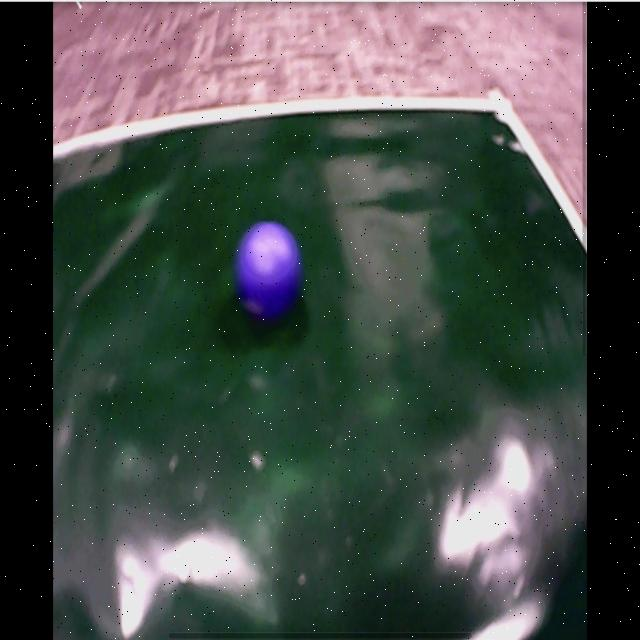ball: (241, 223, 301, 315)
